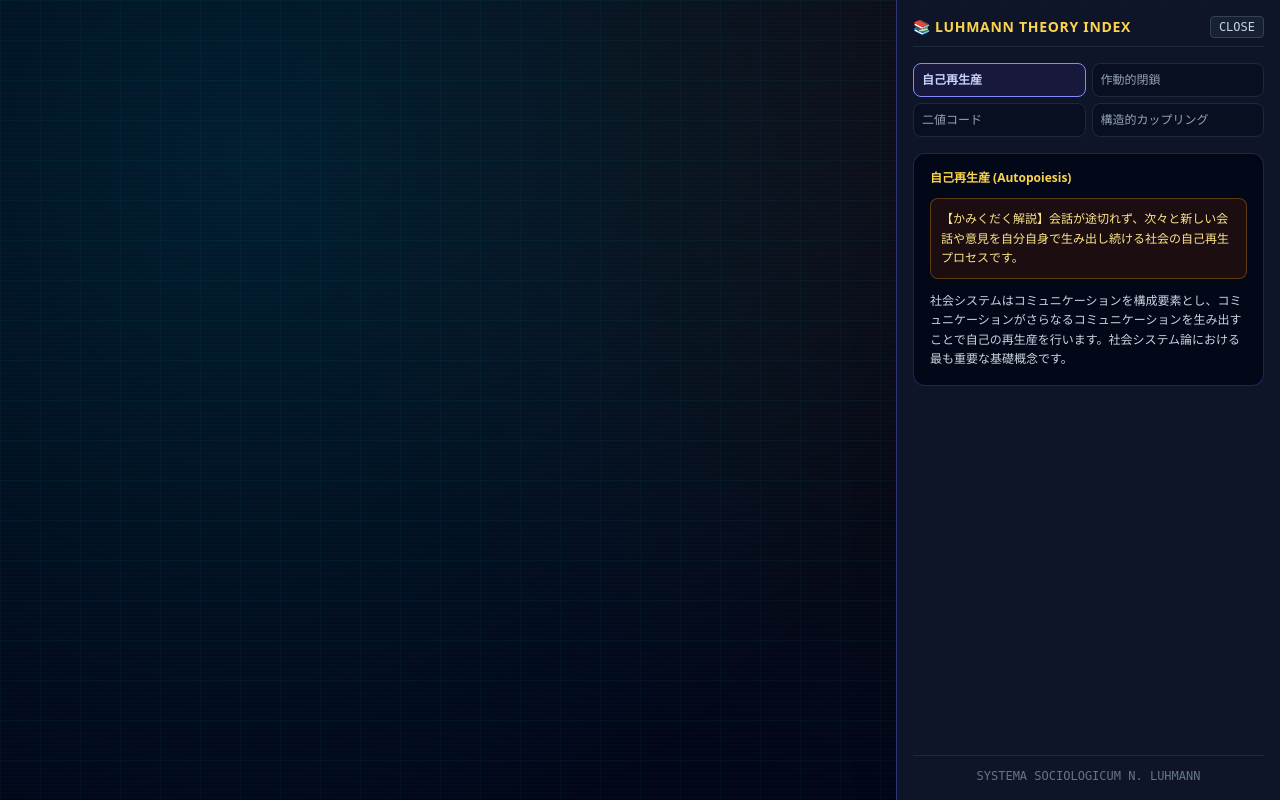
Test: EducationalPanel component › switches tabs and displays respective description contents
This screenshot has width=1280, height=800.
Expected: the heading with test id "tab-title" reads "自己再生産 (Autopoiesis)", [930,169,1071,186]
Expected: the text with test id "tab-content" shows "社会システムはコミュニケーションを構成要素とし、コミュニケーションがさらなるコミュニケーションを生み出すことで自己の再生産を行います。社会システム論における最も重要な基礎概念です。", [930,292,1242,367]
Switch to Operational Closure (closure)
What coordinates should you click on to do the following:
click the button with test id "tab-closure"
I would click on:
 (1178, 80)
Its box is [1092,63,1264,97].
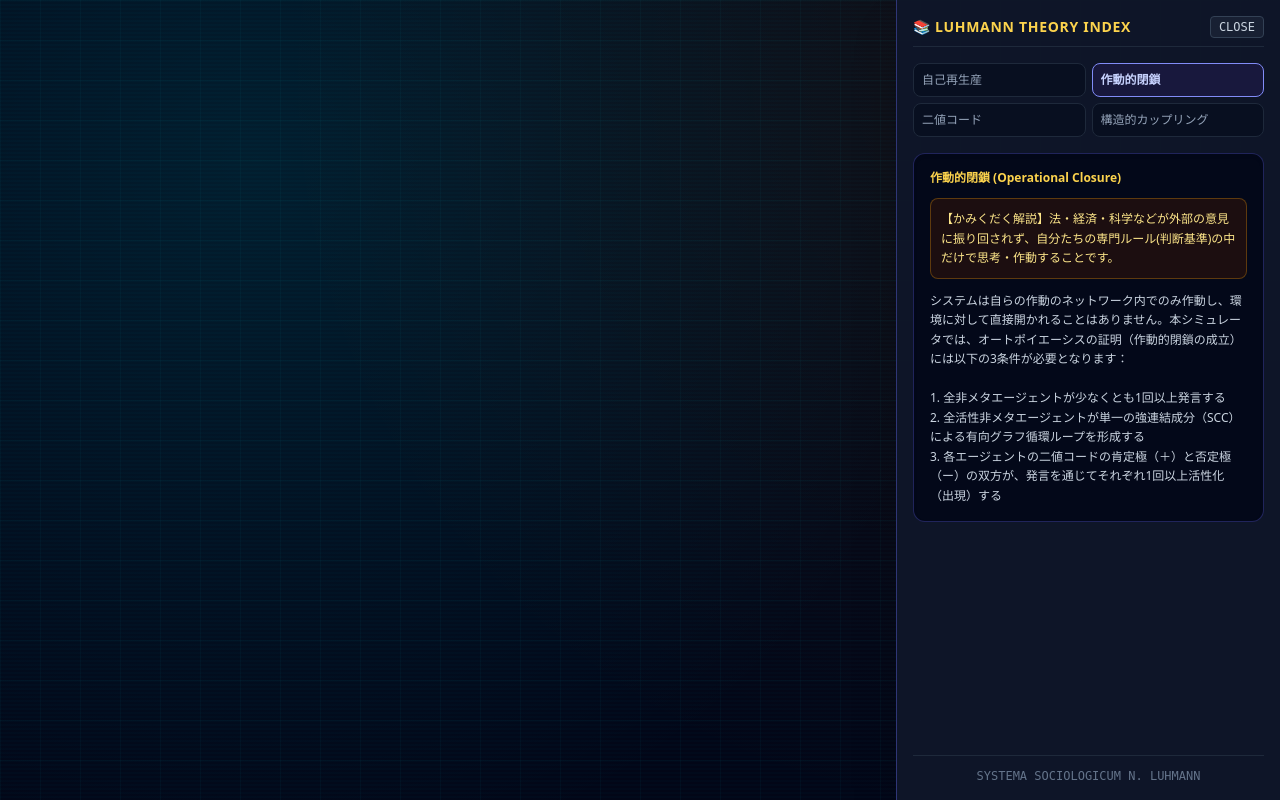
Expected: the heading with test id "tab-title" reads "作動的閉鎖 (Operational Closure)", [930,169,1121,186]
Switch to Binary Codes (binary)
What coordinates should you click on to do the following:
click the button with test id "tab-binary"
I would click on:
 (999, 120)
Its box is [913,103,1086,137].
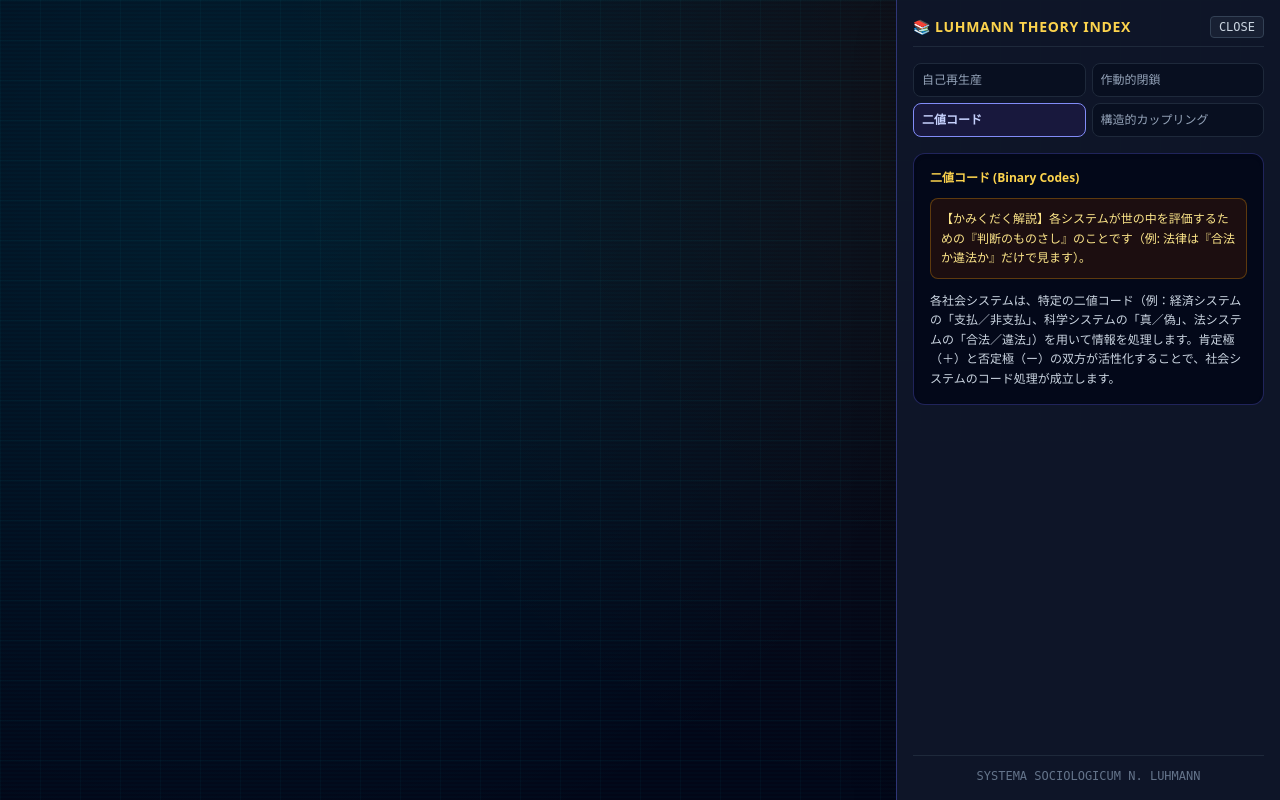
Expected: the heading with test id "tab-title" reads "二値コード (Binary Codes)", [930,169,1079,186]
Switch to Structural Coupling (coupling)
What coordinates should you click on to do the following:
click the button with test id "tab-coupling"
I would click on:
 (1178, 120)
Its box is [1092,103,1264,137].
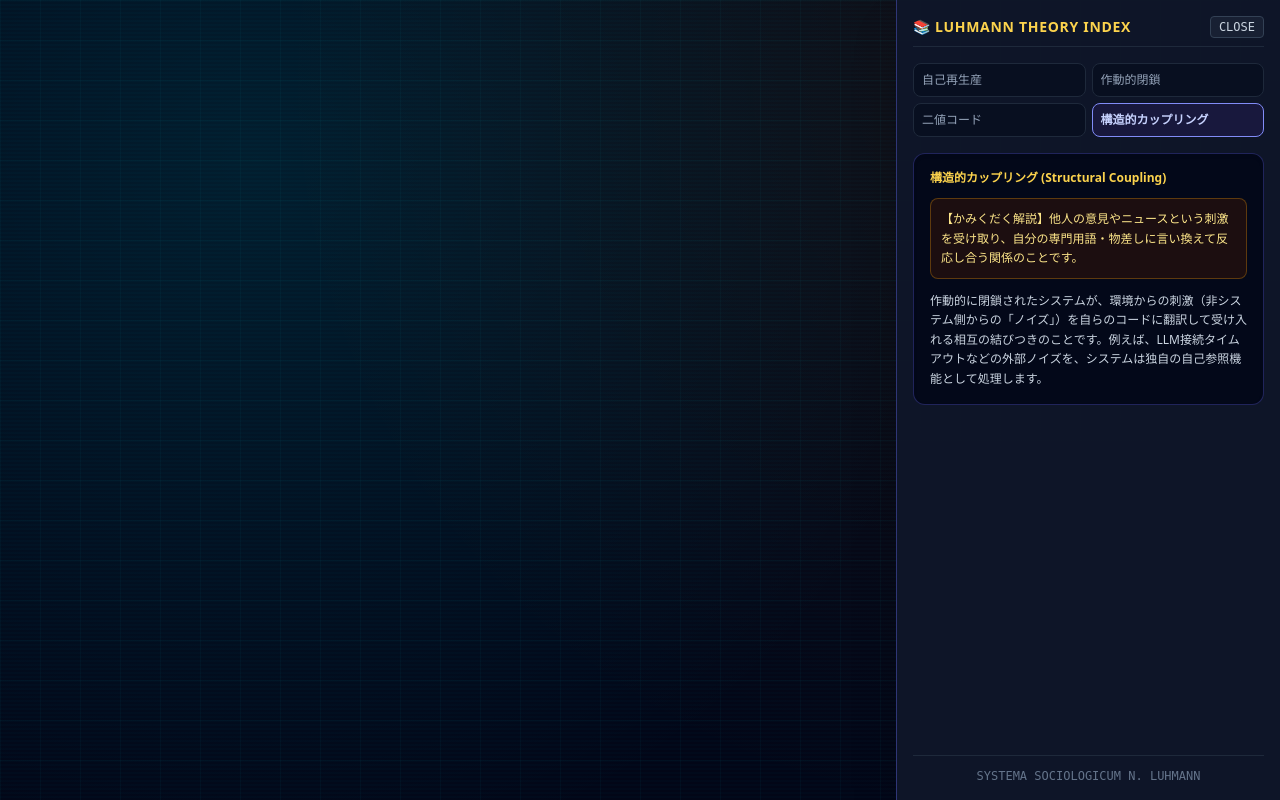
Expected: the heading with test id "tab-title" reads "構造的カップリング (Structural Coupling)", [930,169,1166,186]
Expected: the text with test id "tab-content" shows "作動的に閉鎖されたシステムが、環境からの刺激（非システム側からの「ノイズ」）を自らのコードに翻訳して受け入れる相互の結びつきのことです。例えば、LLM接続タイムアウトなどの外部ノイズを、システムは独自の自己参照機能として処理します。", [930,292,1247,386]
